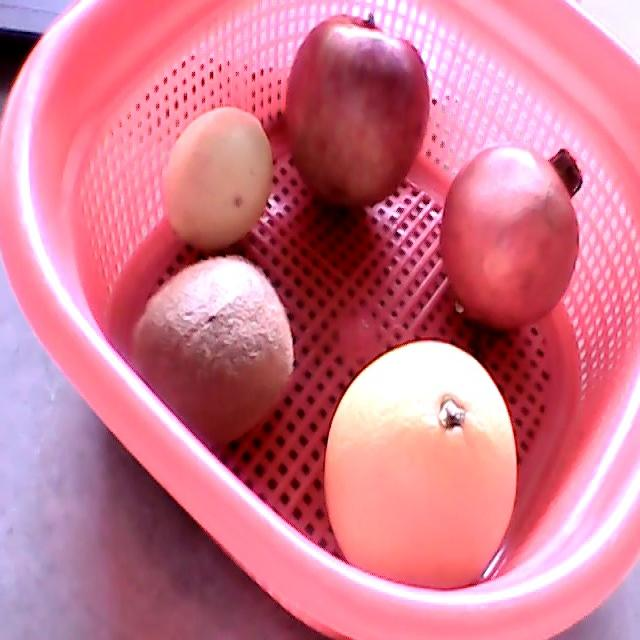apple: (286, 12, 431, 207)
kiwi: (130, 255, 294, 444)
lemon: (163, 107, 272, 251)
orange: (324, 338, 517, 592)
pomegranate: (439, 145, 583, 332)
